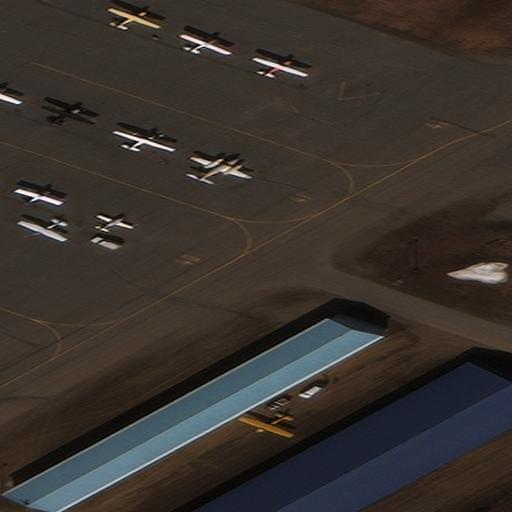Small Civil Transport: (191, 156, 253, 181), (115, 129, 176, 150), (237, 415, 289, 437), (109, 7, 162, 28), (16, 219, 64, 242), (254, 56, 308, 76), (182, 33, 232, 53), (42, 105, 93, 123), (17, 187, 63, 204), (98, 214, 133, 232), (0, 87, 22, 102)
